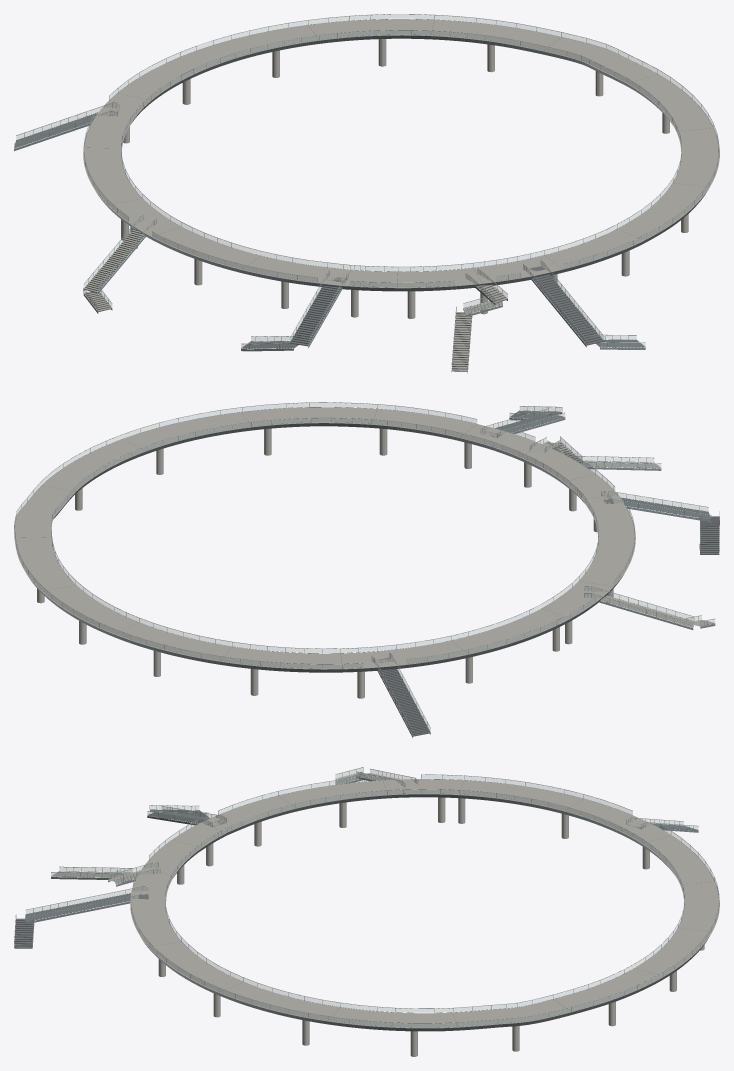
File: lujiazui_skywalk.glb
The picture shows the model from 3 angles, top to bottom: view 1: azimuth 30°, elevation 25°; view 2: azimuth 150°, elevation 25°; view 3: azimuth 270°, elevation 25°; orthographic projection. The views are drawn at different scales.
Parts seen in each view (by area): view 1: deck, glass, edge, tread, joint, column, light; view 2: deck, glass, edge, tread, column, joint, light; view 3: deck, glass, edge, column, tread, light.
Boxes of the visible parts, x1,y1,x2,y2 form: deck: (83, 19, 719, 370); glass: (14, 15, 718, 347); edge: (14, 14, 719, 372); tread: (14, 108, 644, 348); joint: (83, 20, 710, 371); column: (121, 39, 688, 318); light: (14, 14, 700, 344); deck: (14, 407, 714, 669); glass: (15, 403, 714, 734); edge: (14, 402, 719, 737); tread: (372, 410, 719, 735); column: (37, 428, 613, 698); joint: (22, 411, 719, 736); light: (24, 402, 714, 664); deck: (51, 772, 719, 1028); glass: (25, 768, 718, 1026); edge: (14, 767, 719, 1031); column: (158, 797, 704, 1056); tread: (14, 809, 698, 947); light: (27, 768, 696, 1023).
Bounding box in the file's own units: 142 × 9.7 × 149.
